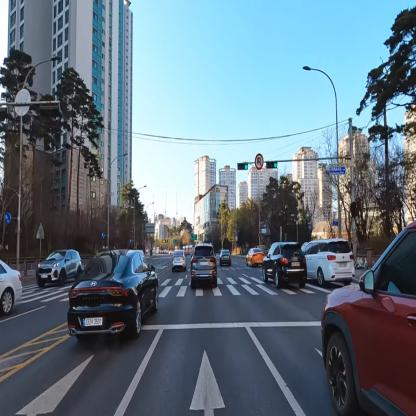Green: (237, 161, 248, 170), (266, 161, 278, 168)
